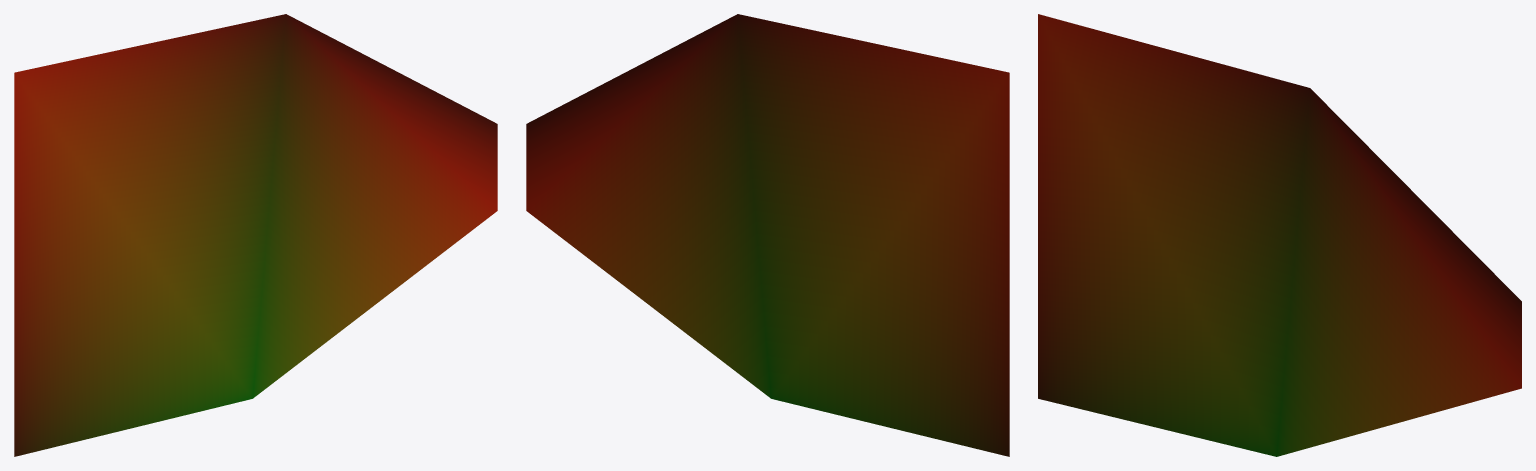
Rendered from Var4_LOD3.fbx.
3 renders of one model, left to right at view 1: azimuth 30°, elevation 25°; view 2: azimuth 150°, elevation 25°; view 3: azimuth 330°, elevation 25°, orthographic.
Visible parts, largest first — view 1: _6e81_Var4_LOD3; view 2: _6e81_Var4_LOD3; view 3: _6e81_Var4_LOD3.
Part boxes in pixels (x1,y1,x2,y2): _6e81_Var4_LOD3: [14, 14, 497, 456]; _6e81_Var4_LOD3: [526, 14, 1009, 456]; _6e81_Var4_LOD3: [1038, 14, 1521, 456].
Bounding box in the file's own units: 195 × 148 × 7.63e-06.
